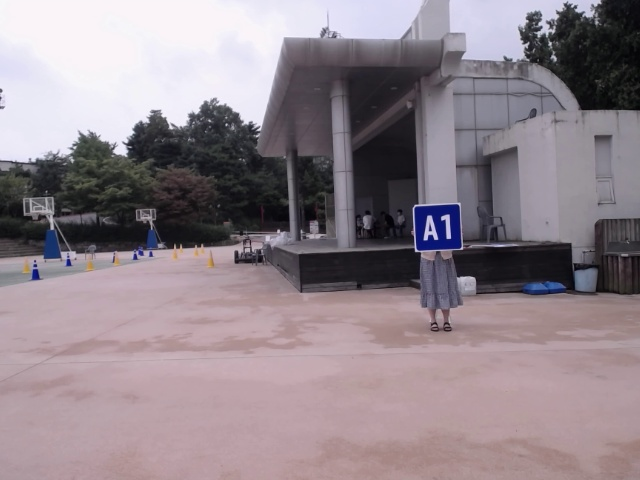delivery_a1: (413, 204, 463, 252)
